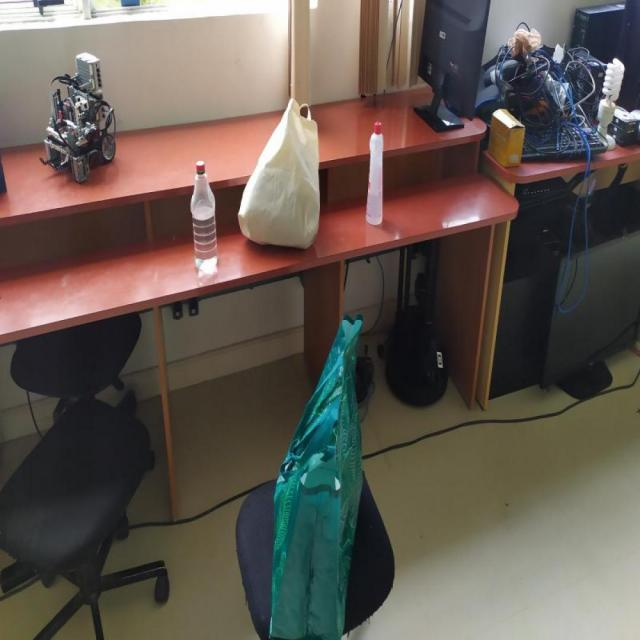Bag: (270, 308, 364, 640), (240, 98, 322, 252)
